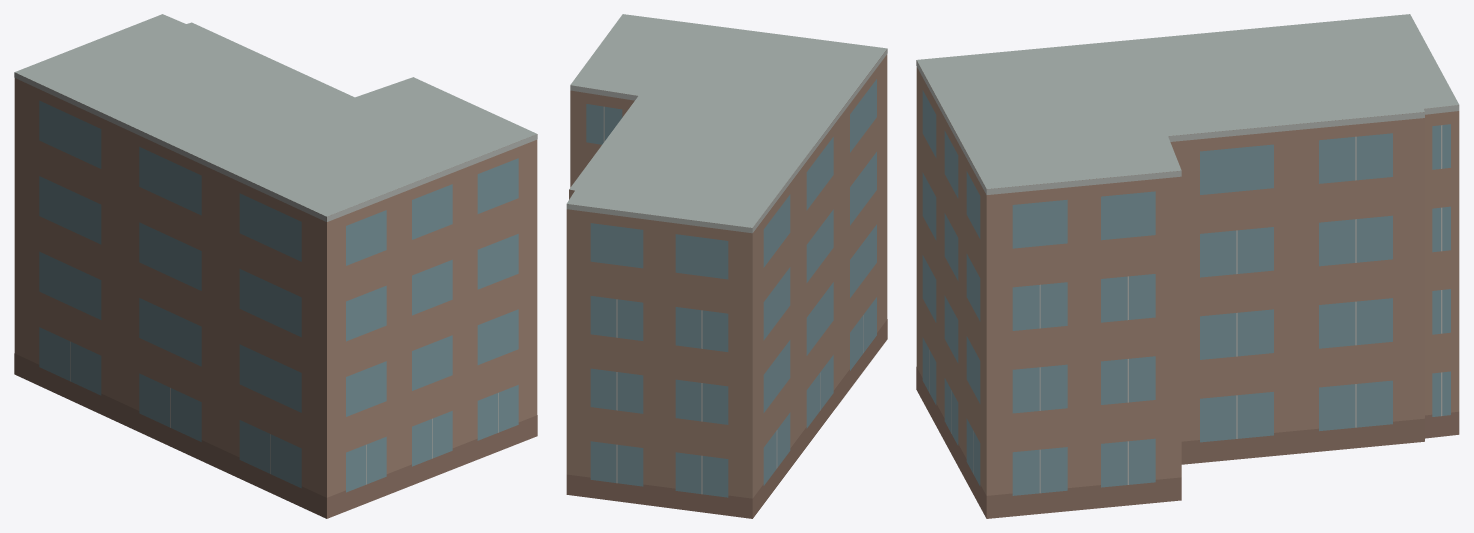
The model's file is survey-upis-32621096.glb.
3 renders of one model, left to right at view 1: azimuth 30°, elevation 25°; view 2: azimuth 150°, elevation 25°; view 3: azimuth 270°, elevation 25°, orthographic. The views are drawn at different scales.
Visible parts, largest first — view 1: survey-upis-32621096.tmp; view 2: survey-upis-32621096.tmp; view 3: survey-upis-32621096.tmp.
Part boxes in pixels (<box>): survey-upis-32621096.tmp: <box>14,14,537,518</box>; survey-upis-32621096.tmp: <box>566,14,887,518</box>; survey-upis-32621096.tmp: <box>916,14,1459,518</box>.
Size of the model in its own units: 15.28 by 13.4 by 20.01.
